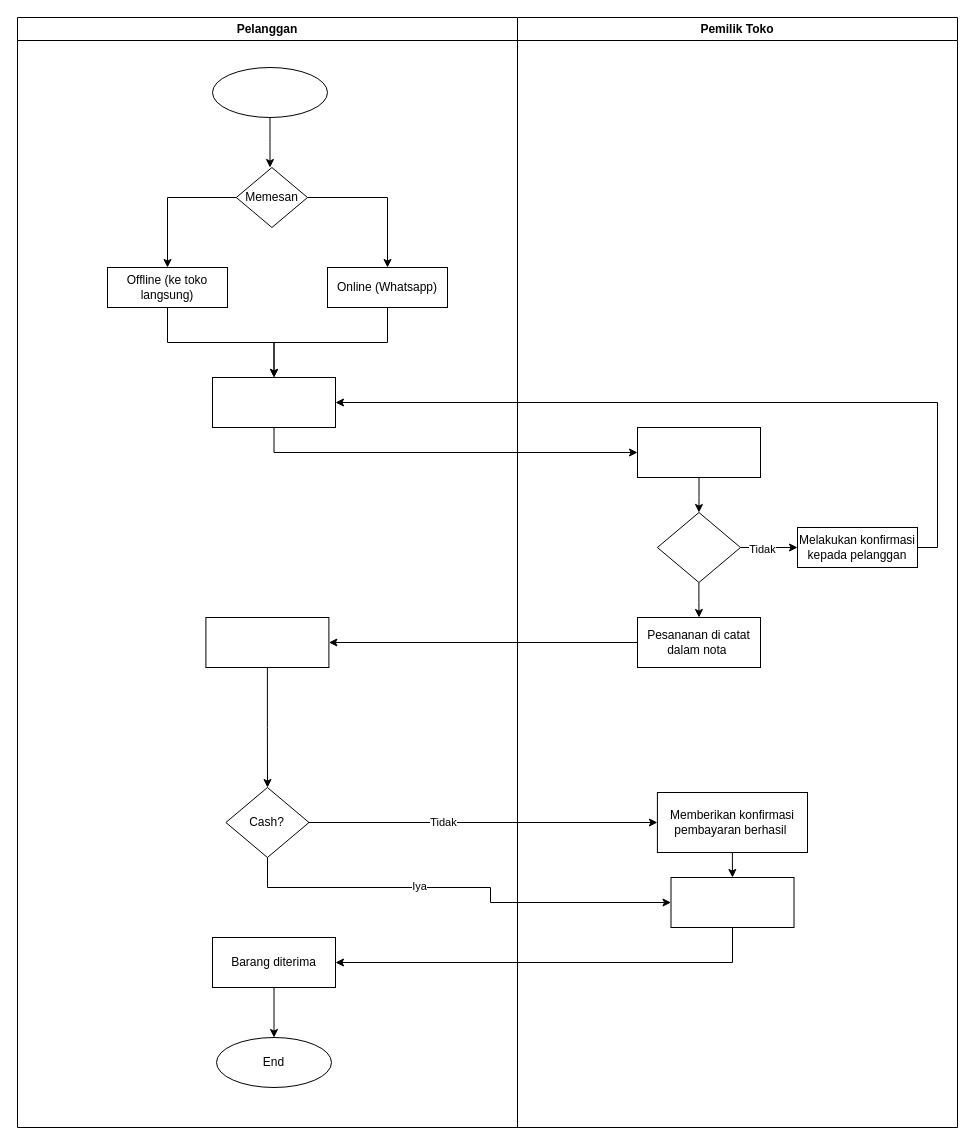
This 975x1145 diagram has some shape labels left out. Each missing label, with the centre of its shape:
Melakukan cek stok barang secara manual: (698,452)
Melakukan pembayaran: (267,642)
Memberikan List pesanan: (274,402)
Pemberian barang belanja: (732,902)
Start: (270,92)
Stok Tersedia?: (698,547)
